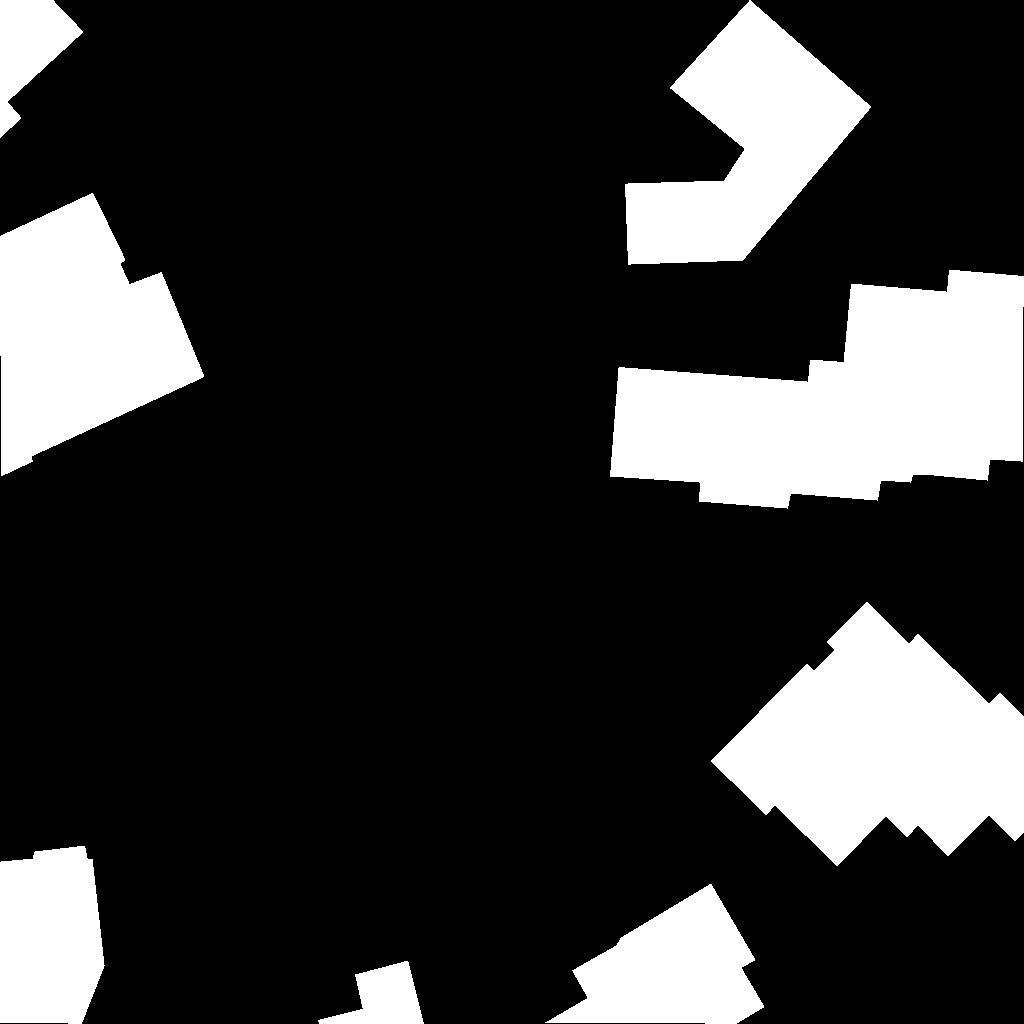building: (610, 270, 1024, 509), (711, 602, 1024, 867), (625, 0, 872, 265), (0, 193, 205, 477), (545, 884, 765, 1024), (0, 846, 105, 1024), (0, 0, 84, 139), (318, 961, 425, 1024)
